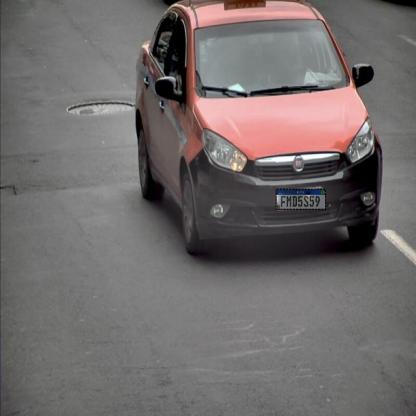PlacaM: (276, 189, 326, 210)
